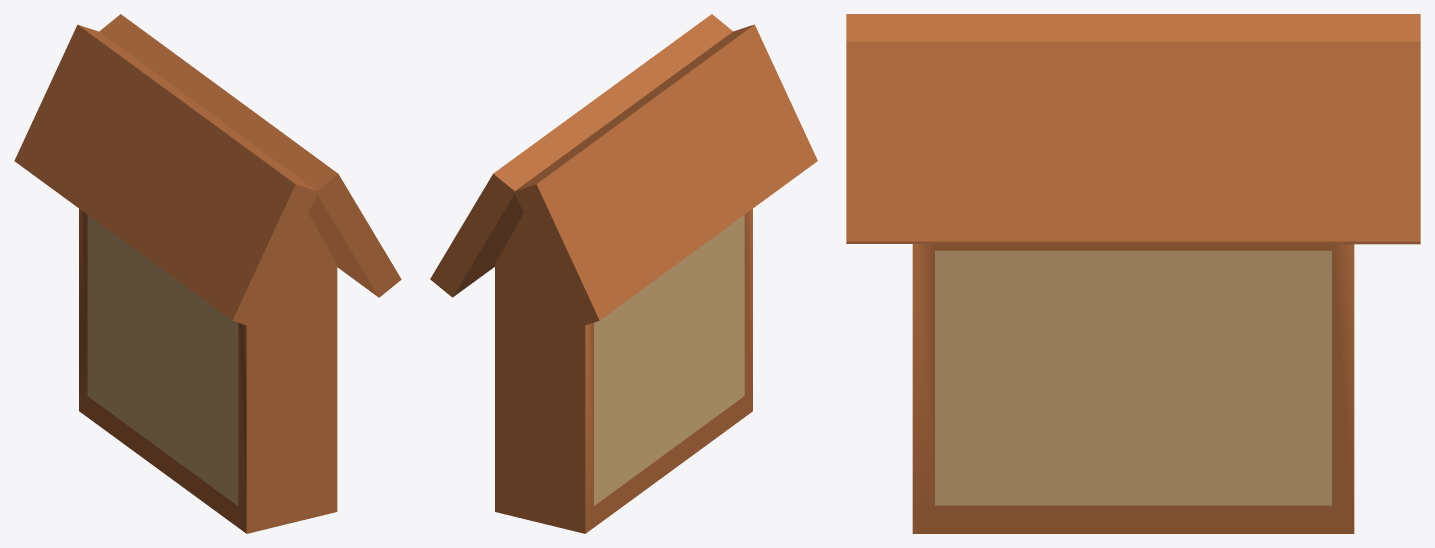
File: Billboard.fbx
3 renders of one model, left to right at view 1: azimuth 30°, elevation 25°; view 2: azimuth 150°, elevation 25°; view 3: azimuth 270°, elevation 25°, orthographic. The views are drawn at different scales.
Visible parts, largest first — view 1: pCube87, pCube88, pCube89; view 2: pCube87, pCube88, pCube89; view 3: pCube87, pCube89, pCube88.
Boxes of the visible parts, x1=… form: pCube87: x1=79, y1=208, x2=337, y2=533; pCube88: x1=14, y1=24, x2=317, y2=327; pCube89: x1=99, y1=14, x2=401, y2=297; pCube87: x1=495, y1=209, x2=752, y2=533; pCube88: x1=515, y1=24, x2=817, y2=327; pCube89: x1=430, y1=14, x2=732, y2=297; pCube87: x1=912, y1=244, x2=1354, y2=533; pCube89: x1=846, y1=41, x2=1420, y2=244; pCube88: x1=846, y1=14, x2=1420, y2=41.
Bounding box in the file's own units: 1.88 × 3.83 × 4.18.
